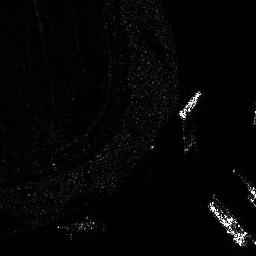ship: (208, 202, 245, 245), (177, 89, 200, 118)
